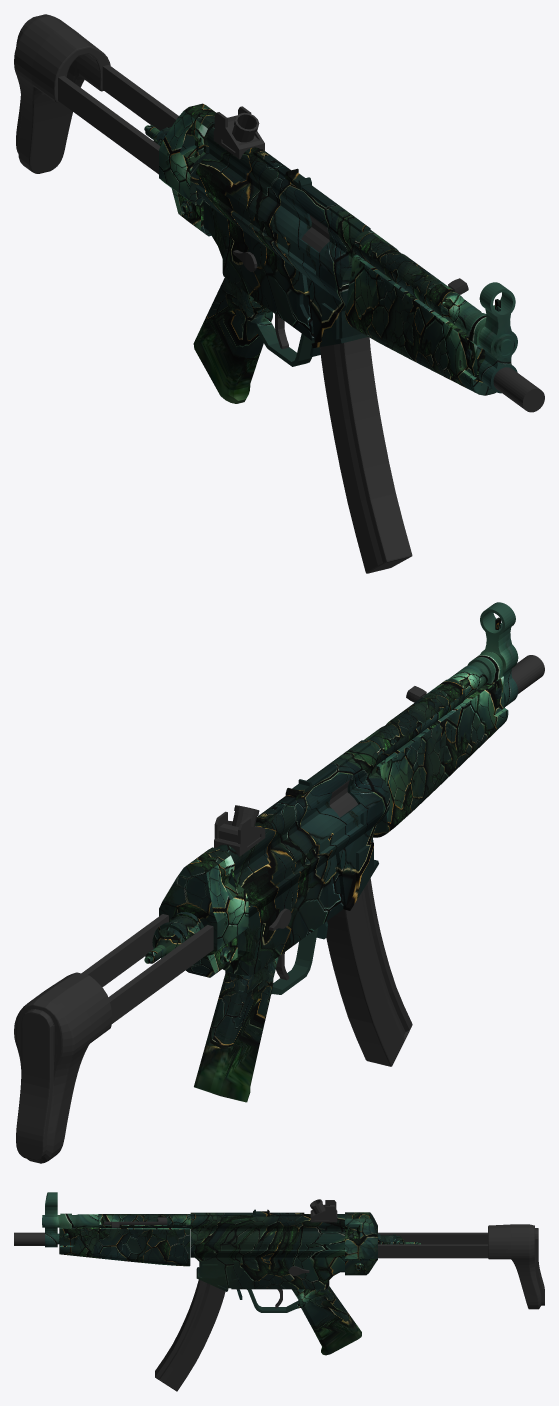
The model's file is smg.glb.
3 views of the same model, one above another, from view 1: azimuth 30°, elevation 25°; view 2: azimuth 150°, elevation 25°; view 3: azimuth 270°, elevation 25° (orthographic). The views are drawn at different scales.
Visible parts, largest first — view 1: CAMO, Stock, Magazine, CAMO2, CAMO5, CAMO4, CAMO3, Rear Sight, Cylinder, Cylinder.003; view 2: CAMO, Stock, Magazine, CAMO2, CAMO5, CAMO4, CAMO3, Rear Sight, Cylinder, Cylinder.003; view 3: CAMO, Stock, CAMO2, Magazine, CAMO5, CAMO4, CAMO3, Rear Sight, Cylinder, Cylinder.003.
Boxes of the visible parts, bbox=[...] form: CAMO: bbox=[195, 126, 517, 393]; Stock: bbox=[14, 14, 178, 174]; Magazine: bbox=[320, 337, 412, 573]; CAMO2: bbox=[345, 255, 496, 395]; CAMO5: bbox=[193, 277, 314, 403]; CAMO4: bbox=[144, 103, 216, 236]; CAMO3: bbox=[353, 230, 459, 316]; Rear Sight: bbox=[213, 106, 264, 159]; Cylinder: bbox=[493, 367, 544, 412]; Cylinder.003: bbox=[301, 215, 468, 294]; CAMO: bbox=[216, 602, 518, 975]; Stock: bbox=[14, 914, 213, 1163]; Magazine: bbox=[326, 878, 412, 1066]; CAMO2: bbox=[373, 676, 508, 837]; CAMO5: bbox=[194, 928, 318, 1102]; CAMO4: bbox=[144, 847, 248, 977]; CAMO3: bbox=[364, 679, 465, 764]; Rear Sight: bbox=[214, 805, 265, 856]; Cylinder: bbox=[511, 655, 544, 693]; Cylinder.003: bbox=[329, 686, 426, 817]; CAMO: bbox=[42, 1192, 344, 1299]; Stock: bbox=[378, 1224, 544, 1309]; CAMO2: bbox=[59, 1227, 190, 1266]; Magazine: bbox=[155, 1279, 225, 1391]; CAMO5: bbox=[247, 1286, 361, 1355]; CAMO4: bbox=[345, 1212, 420, 1275]; CAMO3: bbox=[99, 1214, 190, 1228]; Rear Sight: bbox=[310, 1199, 337, 1222]; Cylinder: bbox=[14, 1232, 44, 1245]; Cylinder.003: bbox=[103, 1217, 167, 1227].
Size of the model in its own units: 0.6705 by 3.94 by 9.7.
Materials: 2 (1 with a texture image).
